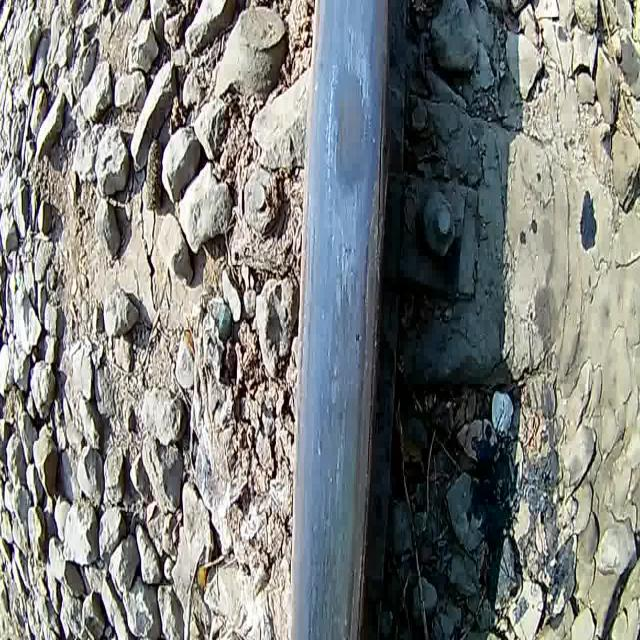Squats: (270, 0, 409, 640)
